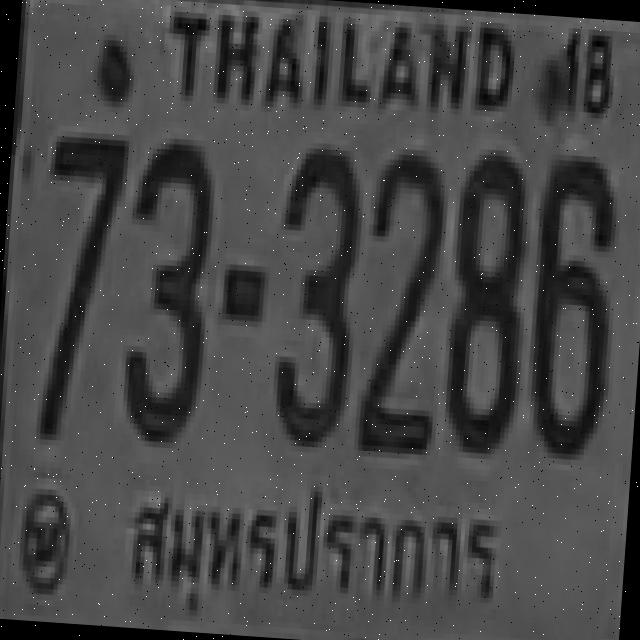2: (356, 147, 447, 416)
3: (116, 136, 214, 438), (266, 140, 362, 444)
6: (520, 150, 618, 458)
7: (33, 130, 127, 388), (36, 130, 128, 338), (39, 130, 128, 310)
8: (438, 148, 532, 450)
SamutPrakan: (117, 459, 515, 640)
